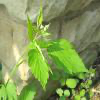Raspberry leaf: (47, 39, 91, 75), (27, 48, 50, 92)
